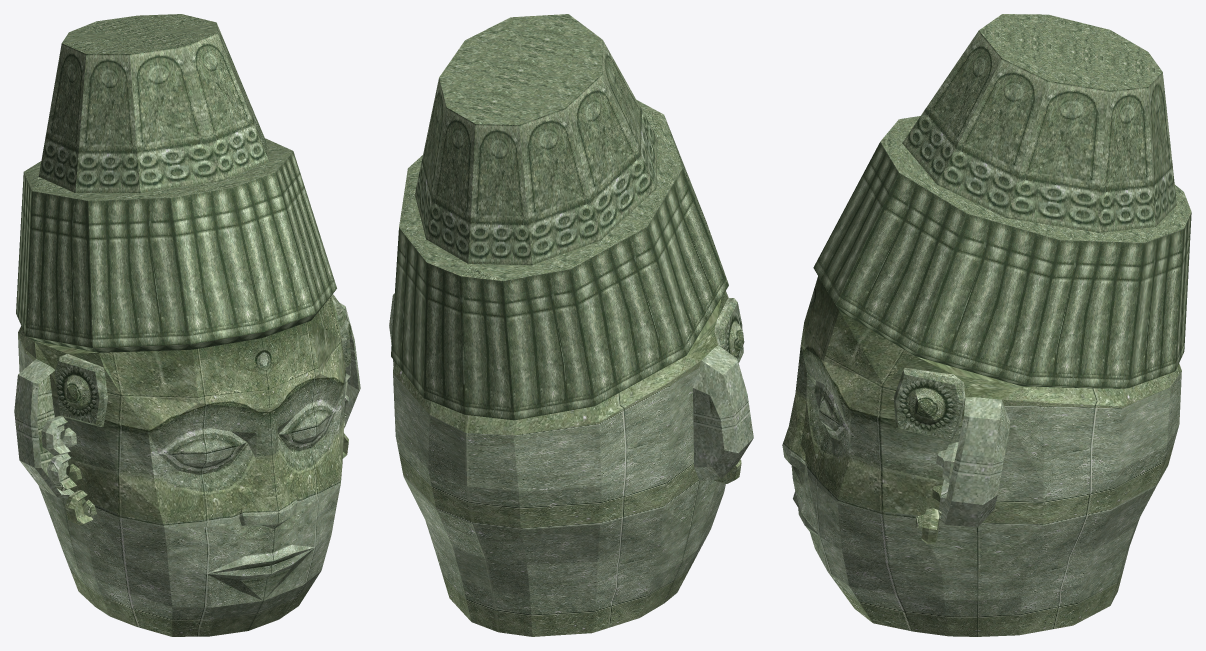
File: thm_nboo_gungan_sacred_head_s01_l1.fbx
3 renders of one model, left to right at view 1: azimuth 30°, elevation 25°; view 2: azimuth 150°, elevation 25°; view 3: azimuth 270°, elevation 25°, orthographic. The views are drawn at different scales.
Parts seen in each view (by area): view 1: mesh_node; view 2: mesh_node; view 3: mesh_node.
Part boxes in pixels (x1,y1,x2,y2): mesh_node: [14, 14, 360, 636]; mesh_node: [389, 14, 753, 636]; mesh_node: [782, 14, 1191, 636].
Bounding box in the file's own units: 5.87 × 9.24 × 6.11.
2 materials, 2 textured.
